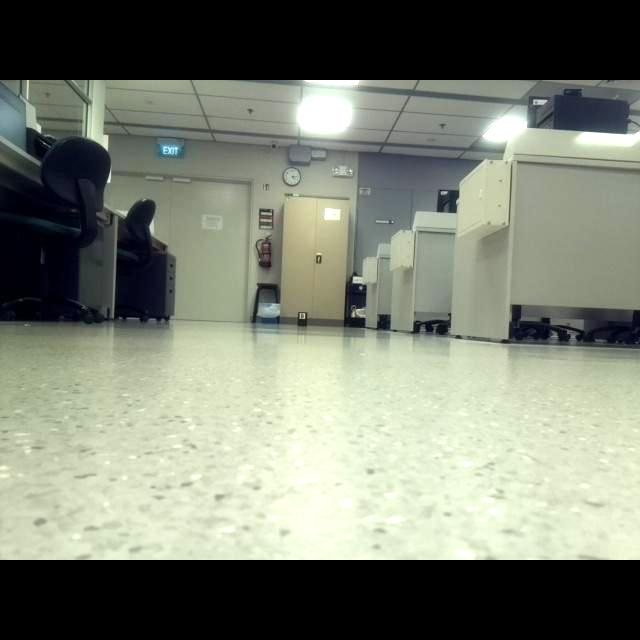B: (299, 313, 307, 320)
